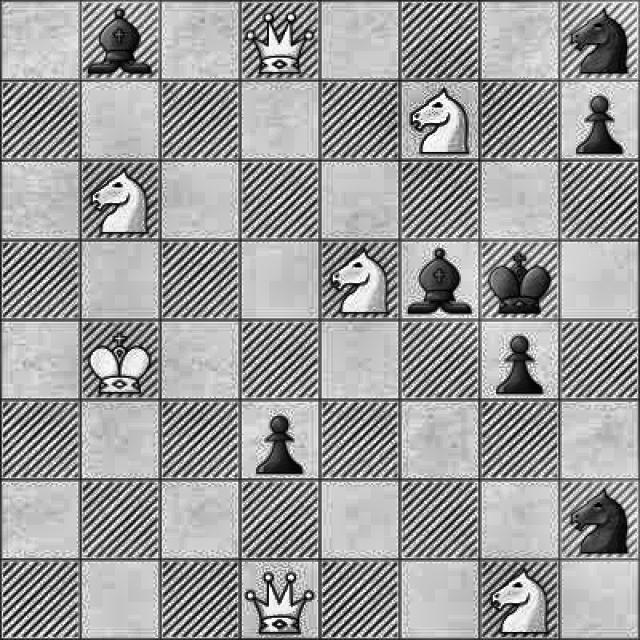Black Knight: (564, 480, 633, 557), (570, 4, 632, 82)
black bishop: (84, 2, 158, 80), (408, 243, 476, 319)
black king: (482, 239, 558, 318)
black pawn: (246, 406, 308, 477), (493, 328, 550, 398), (570, 88, 625, 156)
white king: (88, 327, 156, 398)
white queen: (246, 3, 315, 84), (243, 563, 314, 640)
whiteknight: (322, 244, 395, 317), (82, 165, 152, 240), (409, 84, 474, 160), (487, 564, 551, 640)
